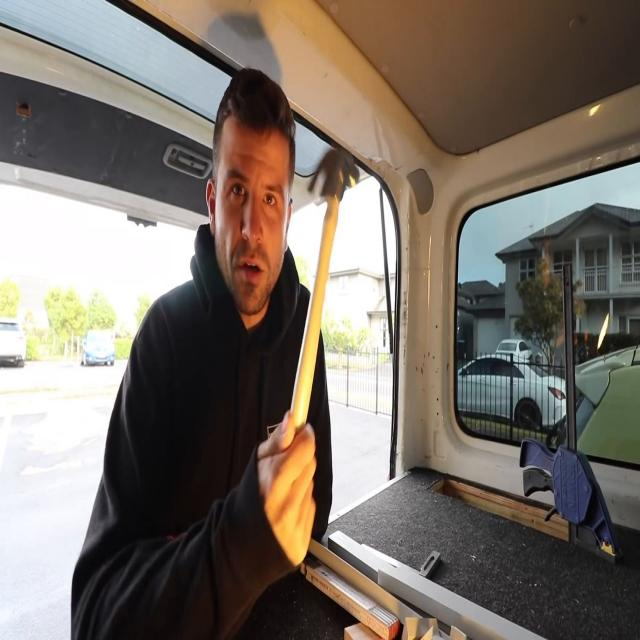hammer: (287, 150, 360, 449)
